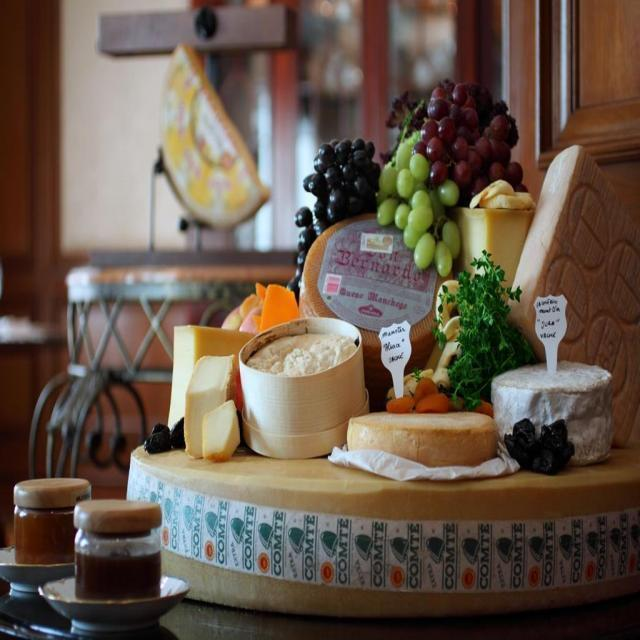Grape: (287, 78, 527, 288)
